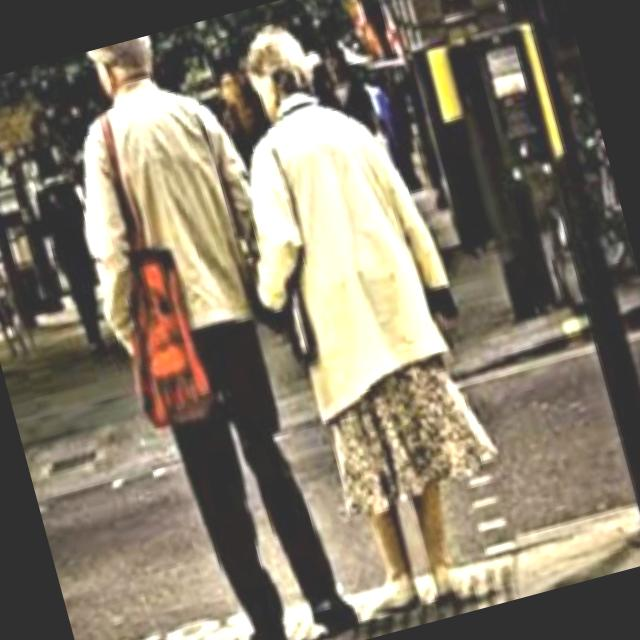Person: (192, 0, 549, 633), (28, 21, 362, 640)
